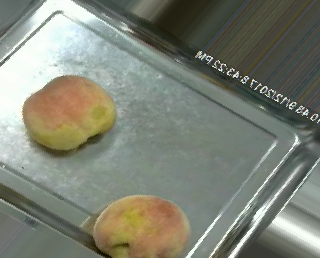Peach: (23, 74, 116, 151), (91, 194, 189, 257)
